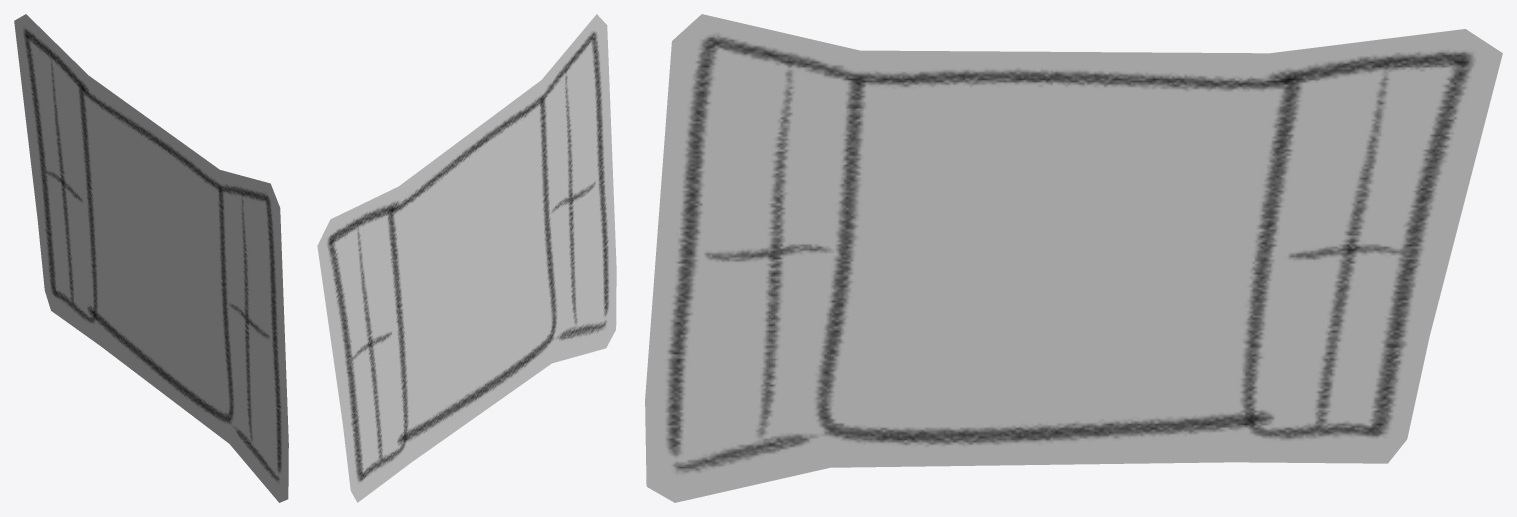
Rendered from Window.fbx.
The picture shows the model from 3 angles, left to right: view 1: azimuth 30°, elevation 25°; view 2: azimuth 150°, elevation 25°; view 3: azimuth 270°, elevation 25°; orthographic projection. The views are drawn at different scales.
Visible parts, largest first — view 1: Window; view 2: Window; view 3: Window.
Boxes of the visible parts, x1=… form: Window: x1=14, y1=14, x2=288, y2=502; Window: x1=317, y1=14, x2=616, y2=502; Window: x1=645, y1=14, x2=1502, y2=502.
Bounding box in the file's own units: 2.87e-05 × 71.89 × 114.
1 material, 1 textured.
